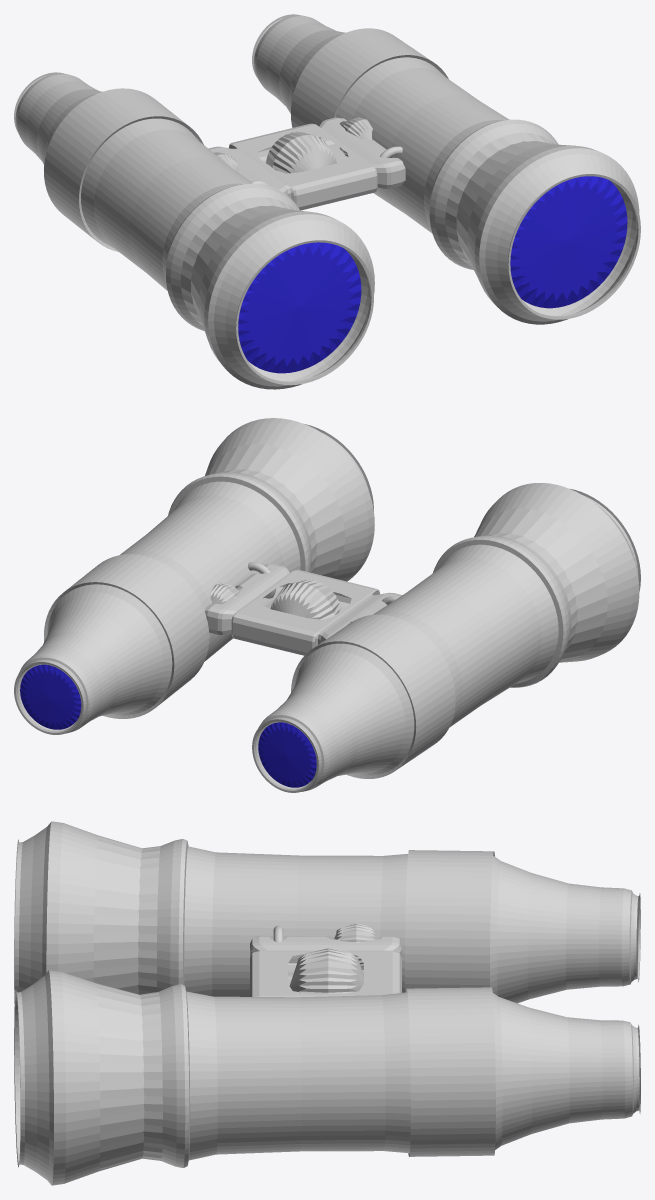
Rendered from Binocular.fbx.
3 renders of one model, top to bottom at view 1: azimuth 30°, elevation 25°; view 2: azimuth 150°, elevation 25°; view 3: azimuth 270°, elevation 25°, orthographic. The views are drawn at different scales.
Parts seen in each view (by area): view 1: Binocular; view 2: Binocular; view 3: Binocular.
Part boxes in pixels (x1,y1,x2,y2): Binocular: [14, 14, 640, 389]; Binocular: [14, 418, 640, 792]; Binocular: [14, 821, 640, 1185].
Size of the model in its own units: 3.36 by 1.28 by 3.71.
